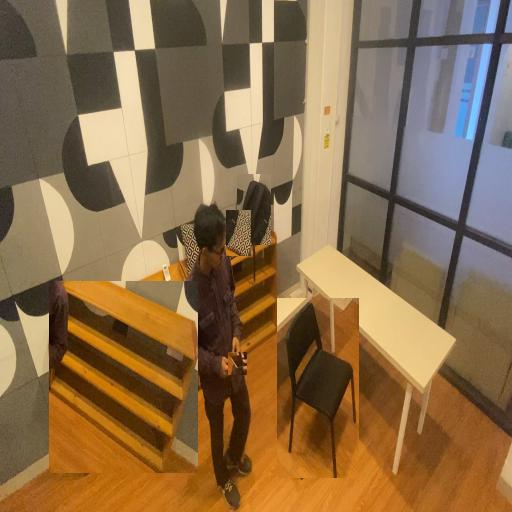bantal: (226, 210, 251, 256), (180, 219, 198, 277)
hp: (228, 352, 247, 375)
kursi: (278, 298, 360, 478)
lemari: (49, 281, 198, 473)
remote AC: (161, 260, 171, 286)
tas ransel: (238, 174, 272, 245)
